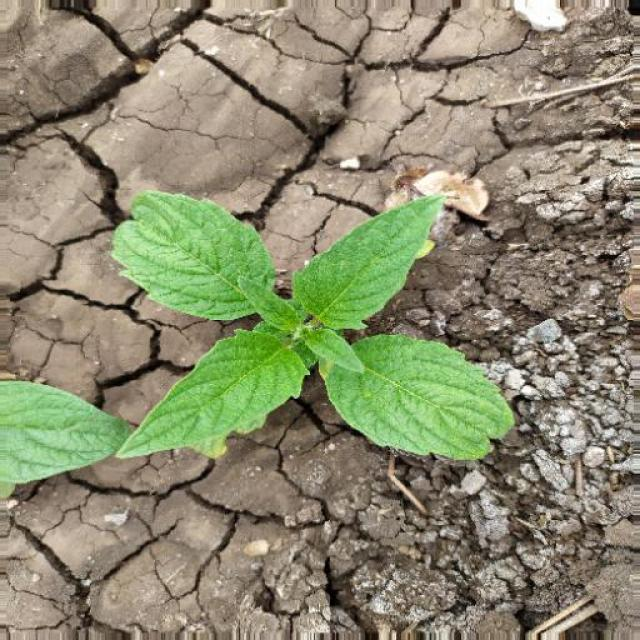crop: (118, 128, 528, 484)
